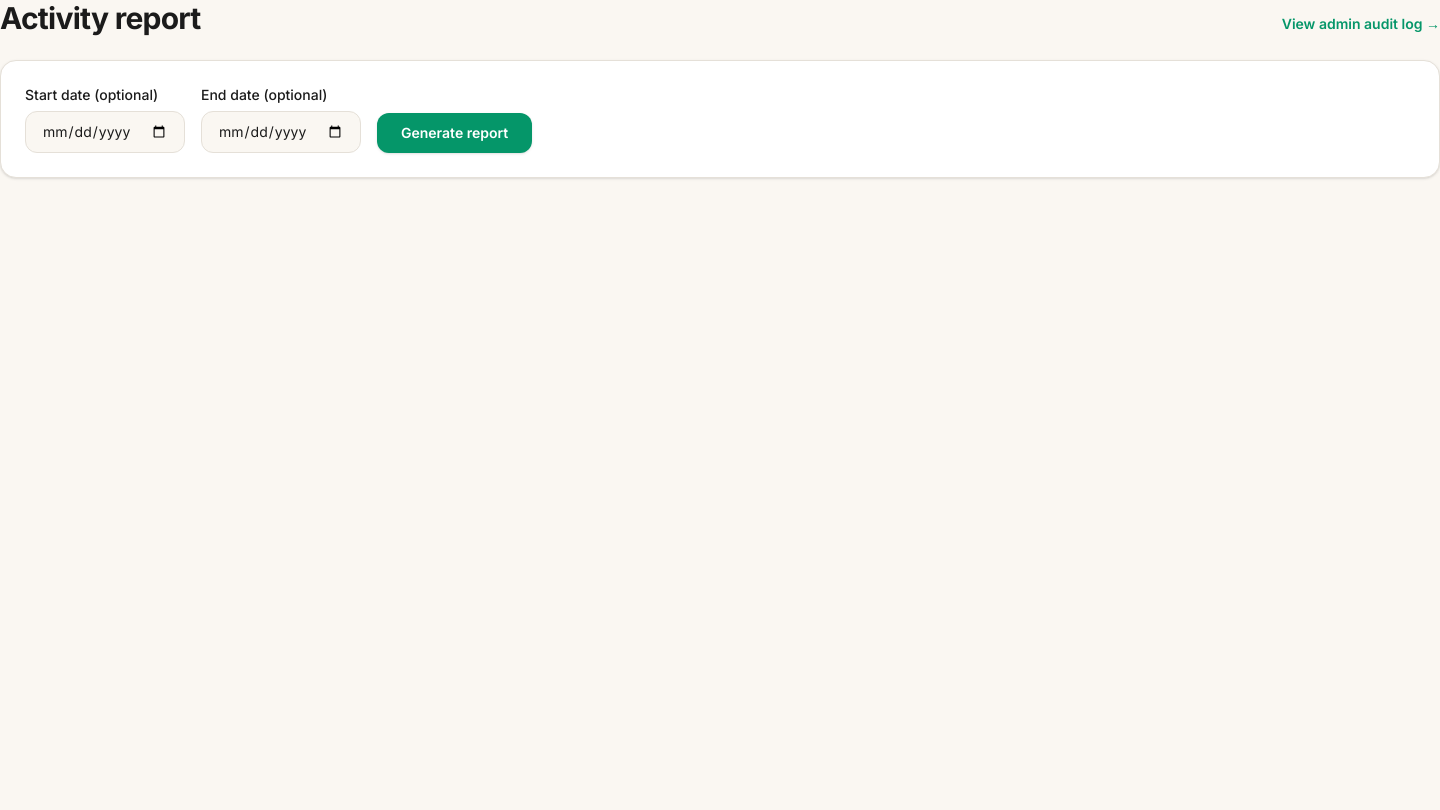
Test case: shows the breakdown cards with totals and per-status counts
The image size is (1440, 810).
Click the button "Generate report" at [455, 133], box [377, 113, 532, 153]
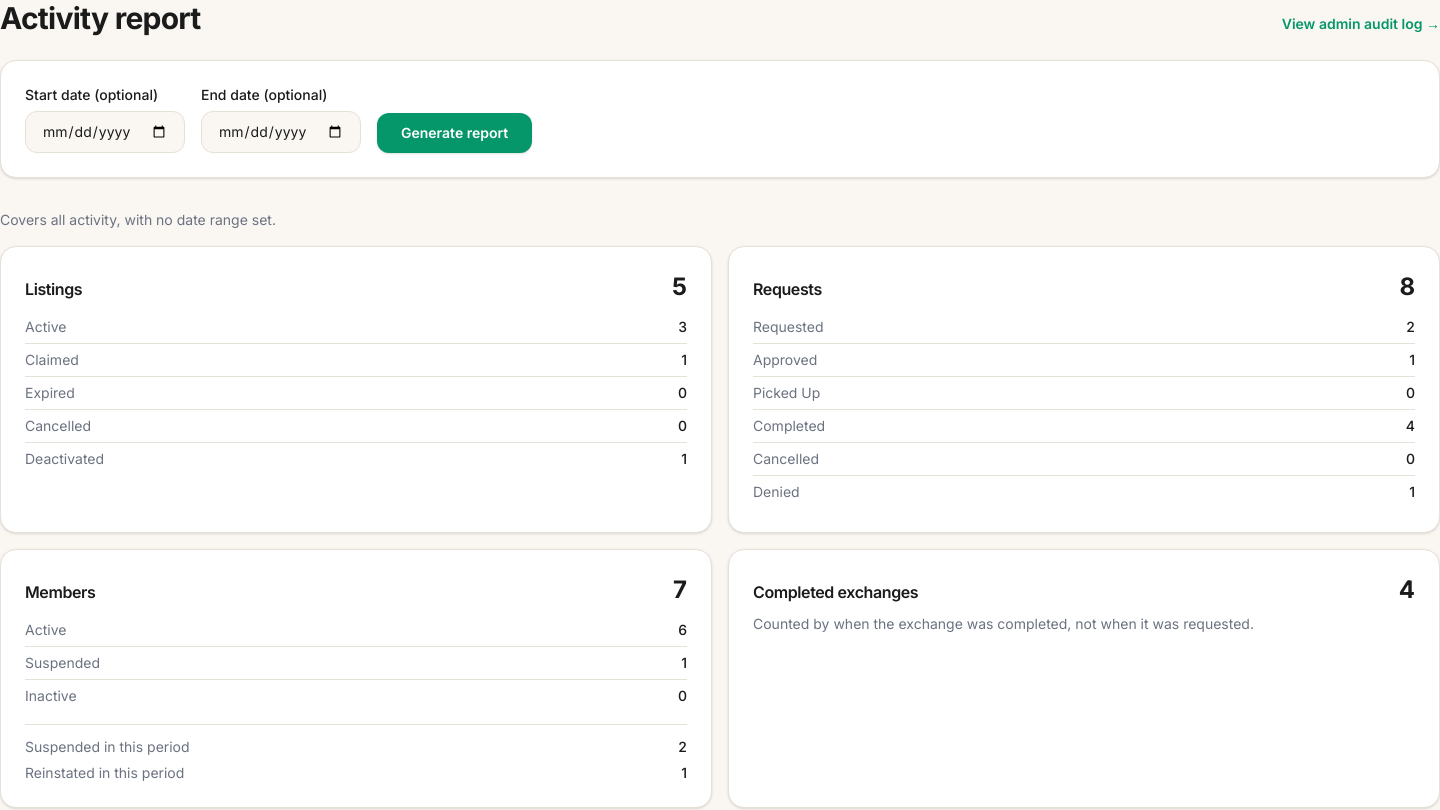
Expected: the heading "Listings" is shown, [25, 277, 82, 301]
Expected: the heading "Requests" is shown, [753, 277, 822, 301]
Expected: the heading "Members" is shown, [25, 580, 95, 604]
